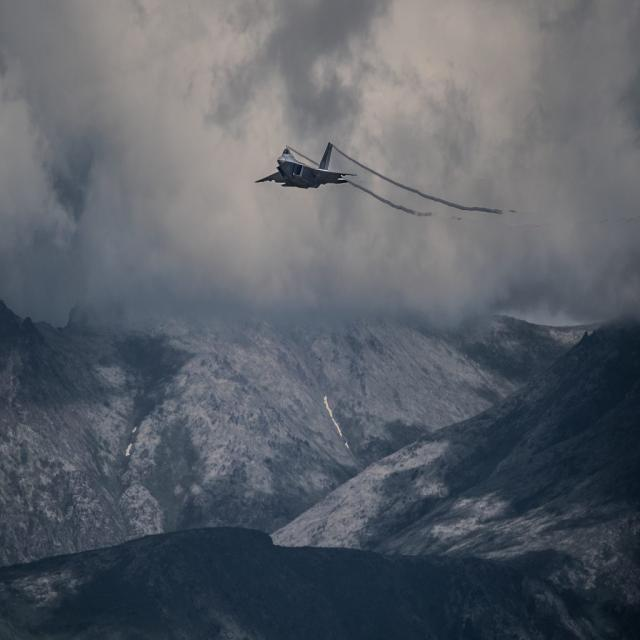MIL_Plane: (268, 140, 344, 190)
